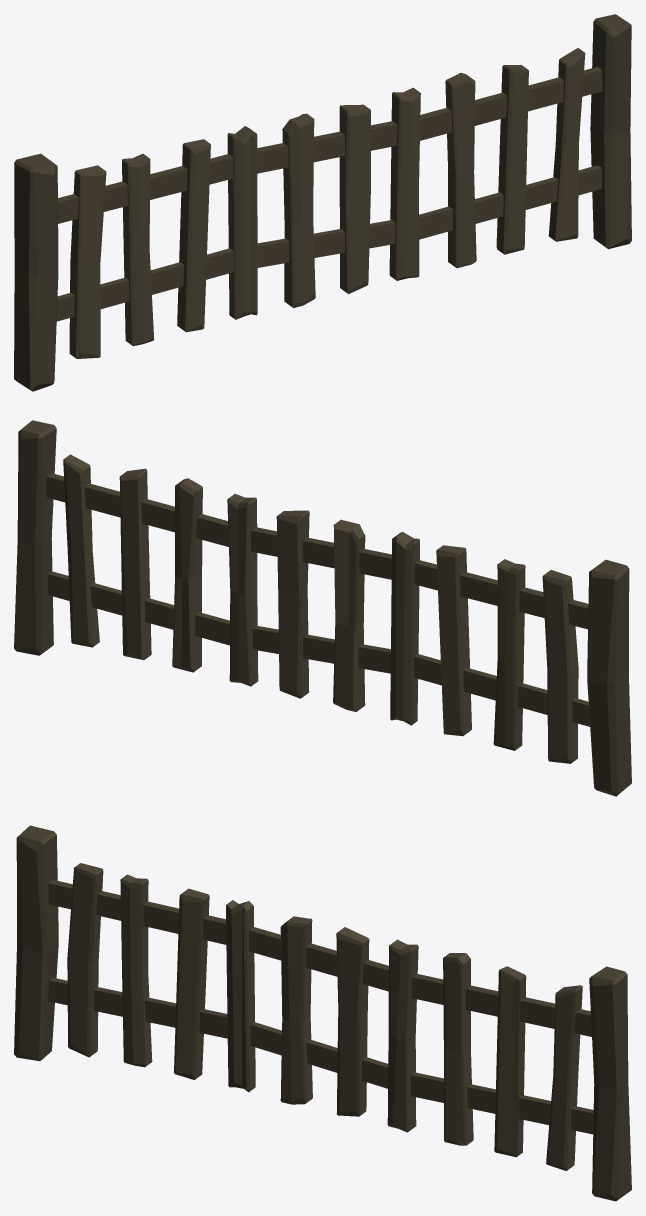
The model's file is I_TallFence.fbx.
3 views of the same model, one above another, from view 1: azimuth 30°, elevation 25°; view 2: azimuth 150°, elevation 25°; view 3: azimuth 330°, elevation 25° (orthographic).
Visible parts, largest first — view 1: TallFence1; view 2: TallFence1; view 3: TallFence1.
Part boxes in pixels (x1=…): TallFence1: x1=14, y1=14, x2=631, y2=391; TallFence1: x1=14, y1=420, x2=631, y2=796; TallFence1: x1=14, y1=825, x2=631, y2=1201.
Bounding box in the file's own units: 11.34 × 3.97 × 0.6211.
